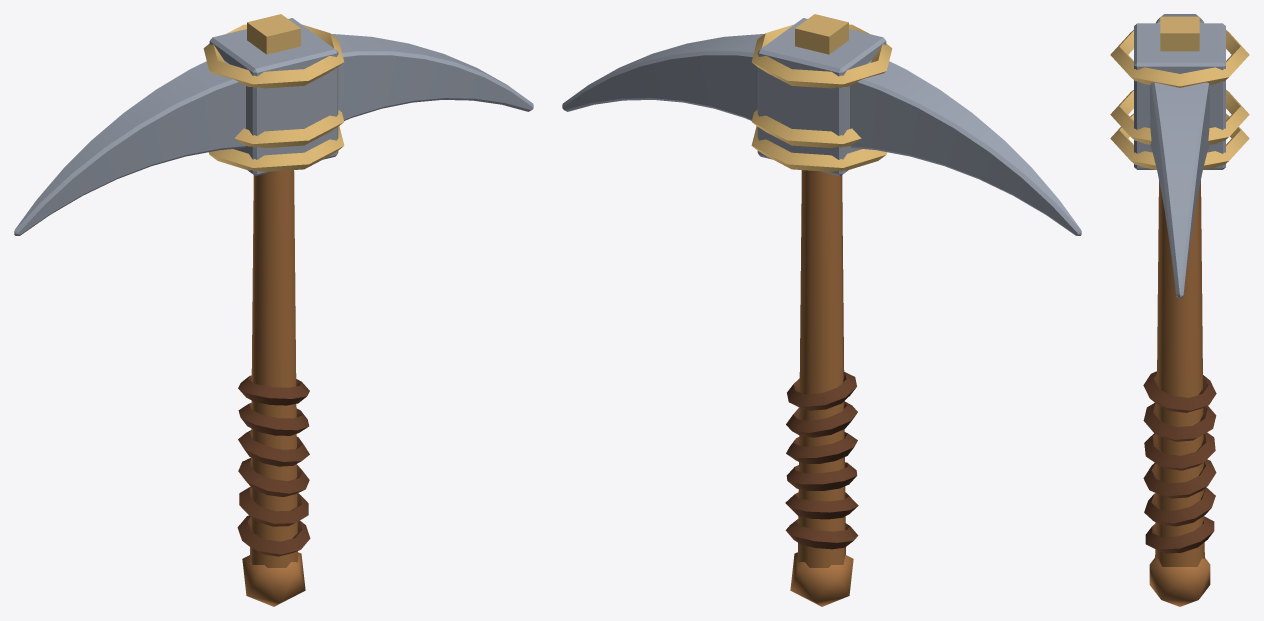
Rendered from pickaxe.glb.
The picture shows the model from 3 angles, left to right: view 1: azimuth 30°, elevation 25°; view 2: azimuth 150°, elevation 25°; view 3: azimuth 270°, elevation 25°; orthographic projection.
Visible parts, largest first — view 1: Pickaxe_Head, Pickaxe_Handle, Pickaxe_Binding, Pickaxe_Grip; view 2: Pickaxe_Head, Pickaxe_Handle, Pickaxe_Binding, Pickaxe_Grip; view 3: Pickaxe_Head, Pickaxe_Handle, Pickaxe_Grip, Pickaxe_Binding.
Boxes of the visible parts, box(x1,y1,x2,y2) form: Pickaxe_Head: box(14, 18, 533, 235); Pickaxe_Handle: box(242, 170, 305, 606); Pickaxe_Binding: box(203, 14, 344, 171); Pickaxe_Grip: box(237, 375, 310, 556); Pickaxe_Head: box(562, 18, 1081, 235); Pickaxe_Handle: box(790, 170, 853, 606); Pickaxe_Binding: box(751, 14, 892, 171); Pickaxe_Grip: box(785, 372, 858, 549); Pickaxe_Head: box(1134, 14, 1225, 298); Pickaxe_Handle: box(1149, 180, 1210, 606); Pickaxe_Grip: box(1143, 371, 1216, 553); Pickaxe_Binding: box(1110, 16, 1249, 169).
Size of the model in its own units: 4.55 by 4.87 by 1.06.
